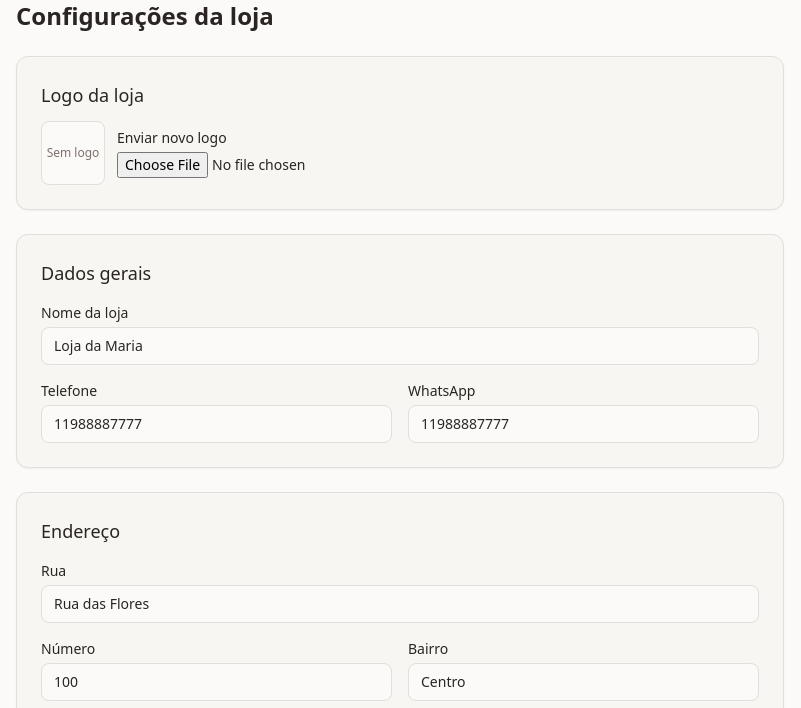
Test: ConfiguracoesLojaPage › salva alteracoes com sucesso
The image size is (801, 708).
Replace the text in the field labelled "Nome da loja" with "Loja da Maria - Atualizada": (400, 346) [41,327,759,365]
(page scrolled)
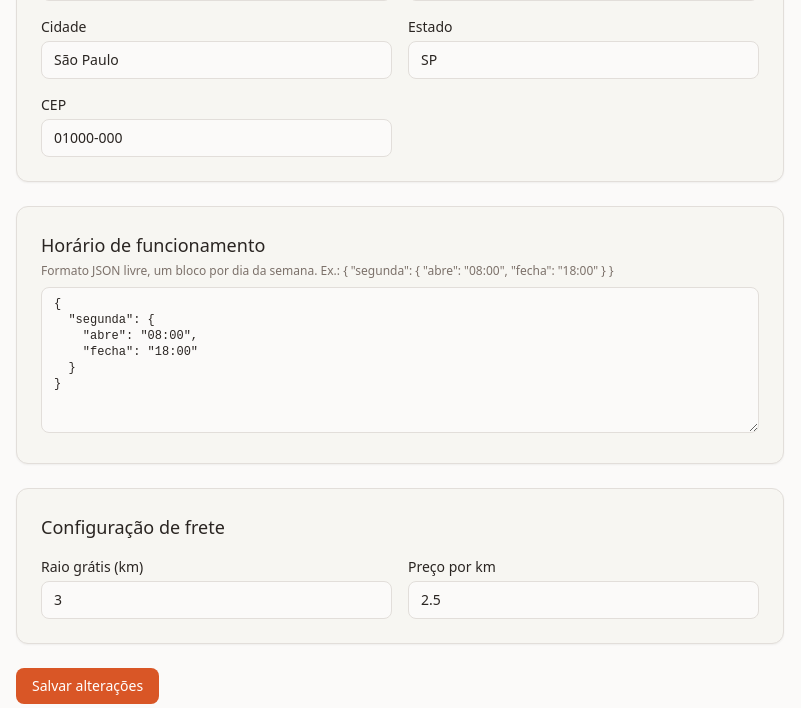
Replace the text in the number field labelled "Raio grátis (km)" with "5": (216, 600) [41,581,392,619]
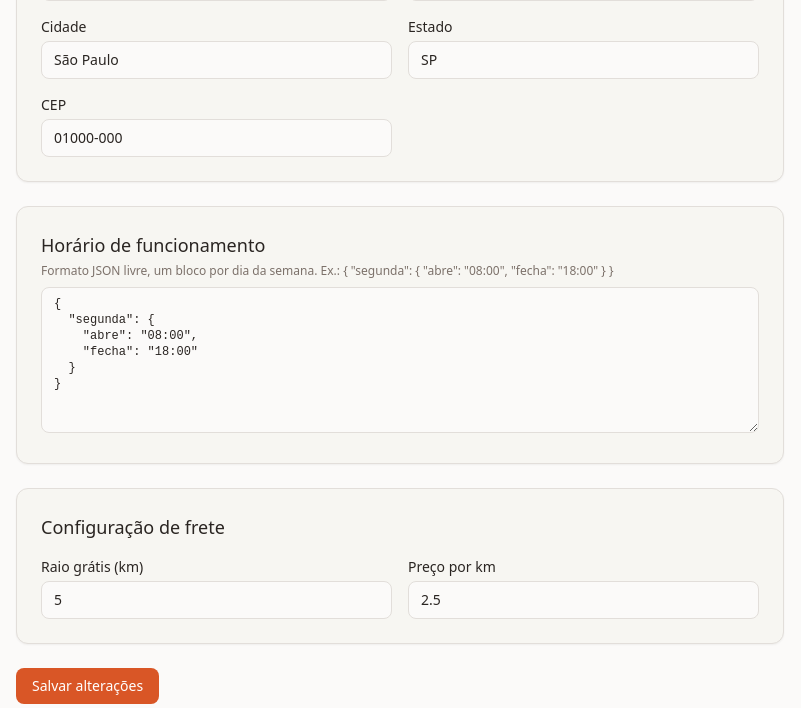
Click the button "Salvar alterações": (88, 686) [16,668,159,704]
(page scrolled)
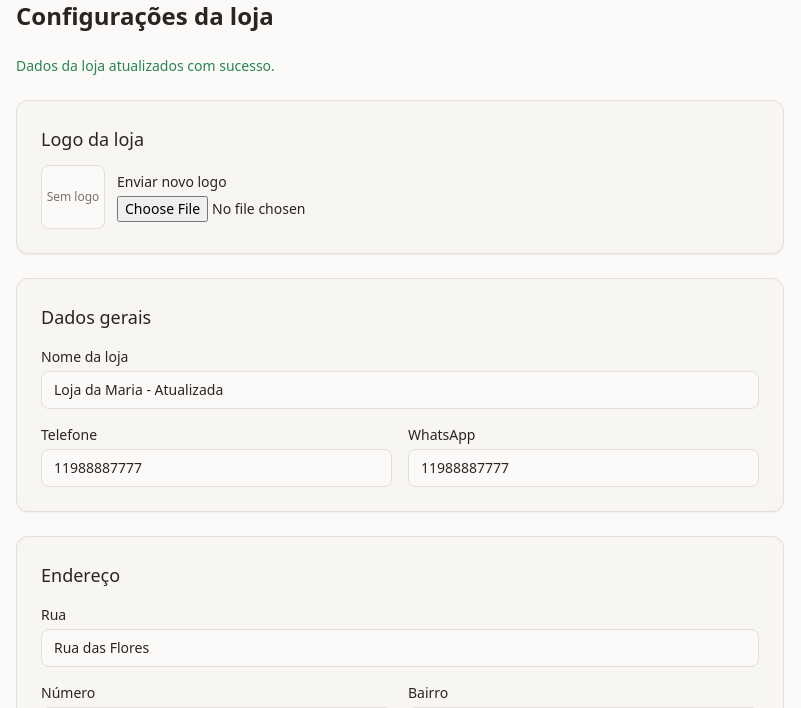
expect the message shows "sucesso": met, box [16,56,275,75]
